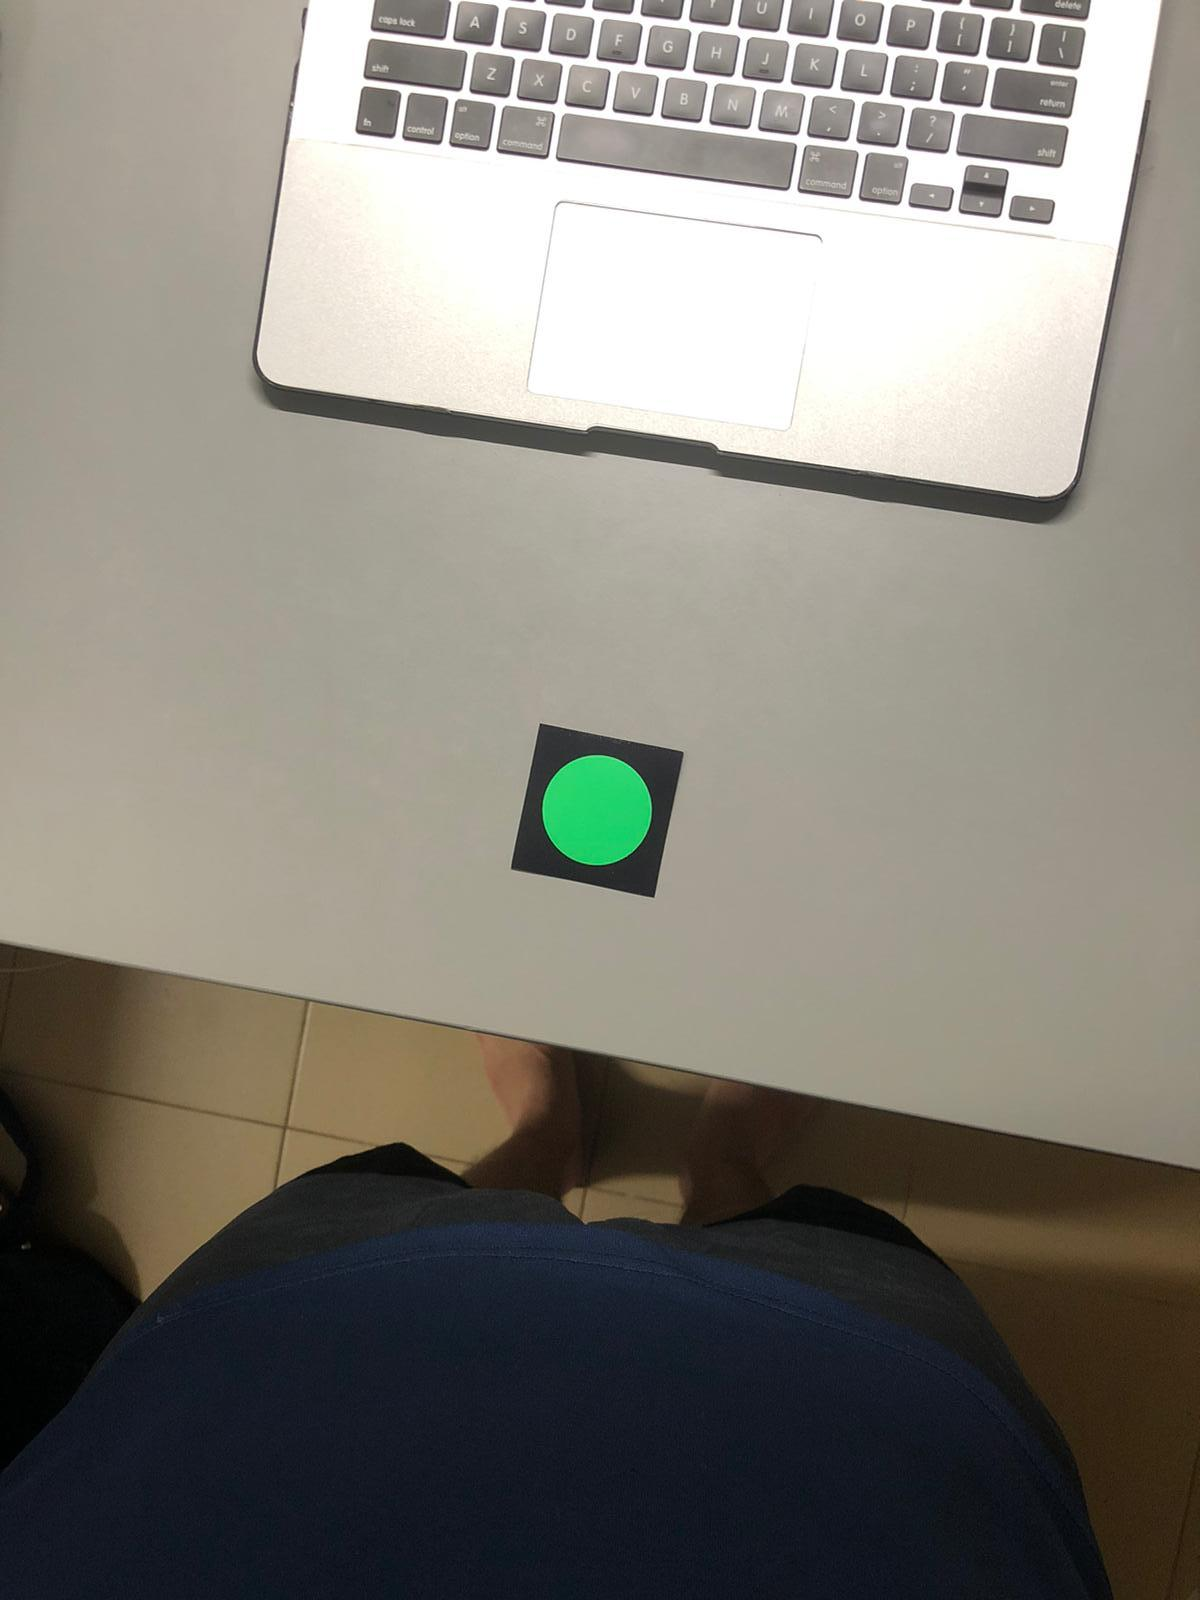Circle: (524, 736, 671, 884)
